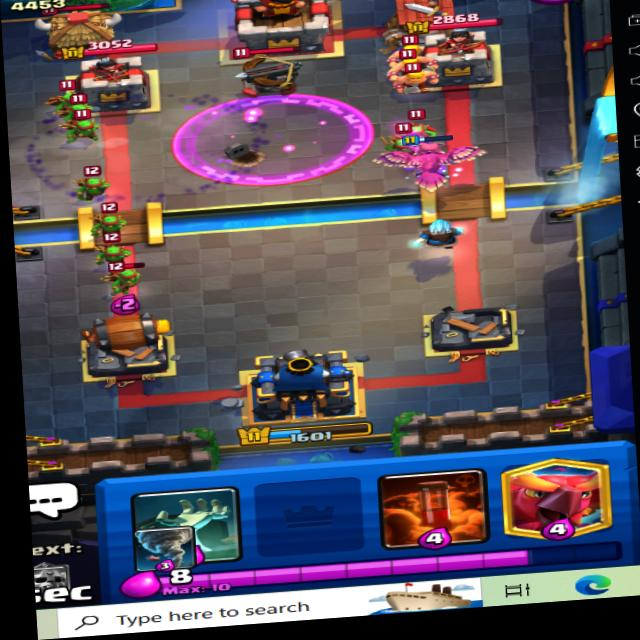Barbarian: (386, 64, 442, 94), (383, 49, 443, 74)
Barbarianhut: (382, 0, 466, 44)
Goblinhut: (35, 0, 118, 57)
Rage: (173, 86, 376, 188)
Speargoblin: (391, 111, 445, 144), (62, 111, 105, 143), (95, 235, 129, 269), (73, 167, 107, 199), (90, 208, 128, 235), (108, 263, 145, 290), (49, 88, 89, 112), (62, 89, 95, 116), (383, 129, 419, 151)
Xbow: (212, 35, 313, 106)
